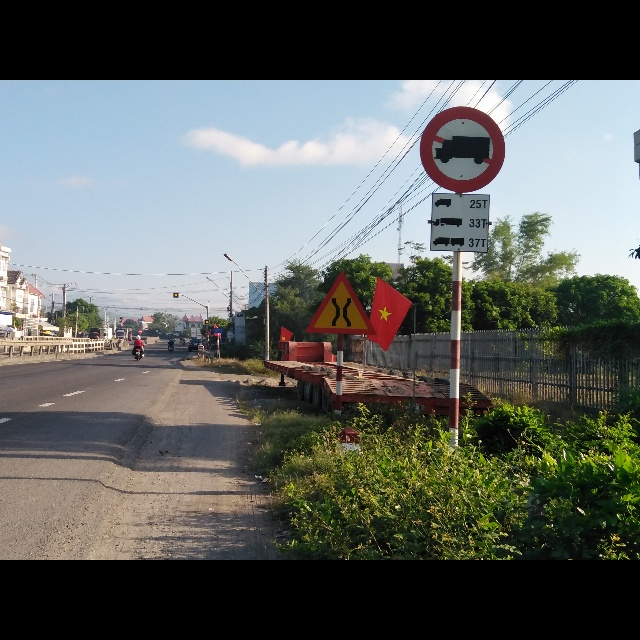Cấm xe tải: (416, 106, 507, 192)
Cầu hẹp: (303, 265, 375, 333)
